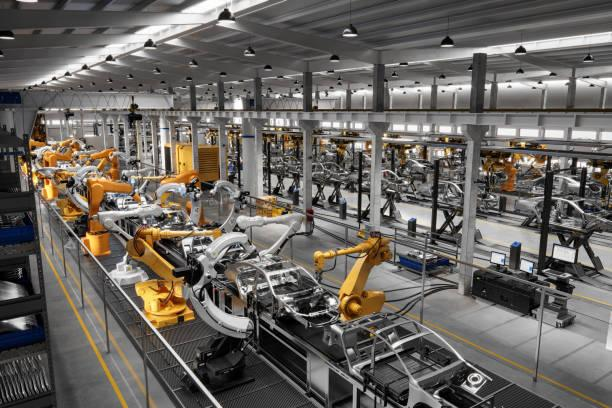Non_Gorille: (14, 0, 582, 408)
